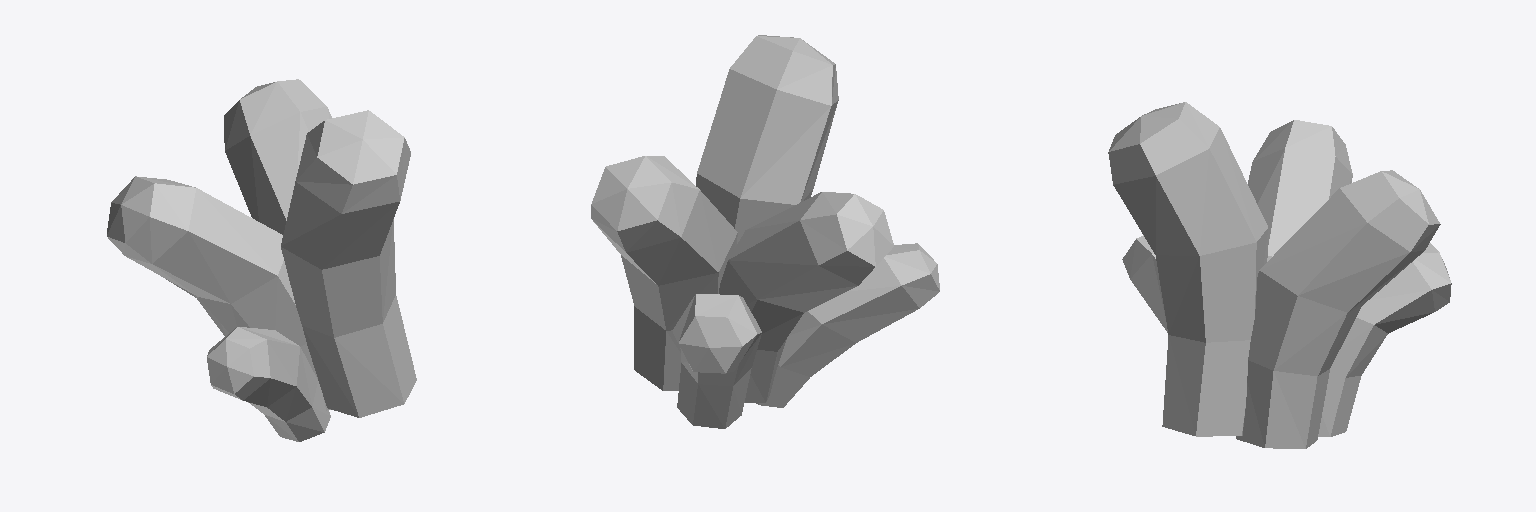
File: mesh_coral.obj
3 renders of one model, left to right at view 1: azimuth 30°, elevation 25°; view 2: azimuth 150°, elevation 25°; view 3: azimuth 270°, elevation 25°, orthographic.
Visible parts, largest first — view 1: coral group3 polySurface135, coral group3 polySurface136, coral group3 polySurface134, coral group3 polySurface139; view 2: coral group3 polySurface135, coral group3 polySurface134, coral group3 polySurface136, coral group3 polySurface139, polySurface137 coral group3; view 3: coral group3 polySurface135, coral group3 polySurface134, coral group3 polySurface136, polySurface137 coral group3, coral group3 polySurface139.
Part boxes in pixels (bbox=[...]): coral group3 polySurface135: bbox=[281, 110, 416, 417]; coral group3 polySurface136: bbox=[107, 176, 330, 410]; coral group3 polySurface134: bbox=[224, 79, 331, 234]; coral group3 polySurface139: bbox=[207, 327, 330, 441]; coral group3 polySurface135: bbox=[696, 35, 838, 243]; coral group3 polySurface134: bbox=[591, 156, 737, 390]; coral group3 polySurface136: bbox=[719, 192, 893, 402]; coral group3 polySurface139: bbox=[756, 243, 939, 407]; polySurface137 coral group3: bbox=[672, 294, 761, 428]; coral group3 polySurface135: bbox=[1108, 102, 1267, 436]; coral group3 polySurface134: bbox=[1236, 170, 1440, 448]; coral group3 polySurface136: bbox=[1248, 120, 1352, 261]; polySurface137 coral group3: bbox=[1318, 243, 1451, 436]; coral group3 polySurface139: bbox=[1122, 235, 1167, 332].
Bounding box in the file's own units: 5.78 × 7.19 × 6.67.